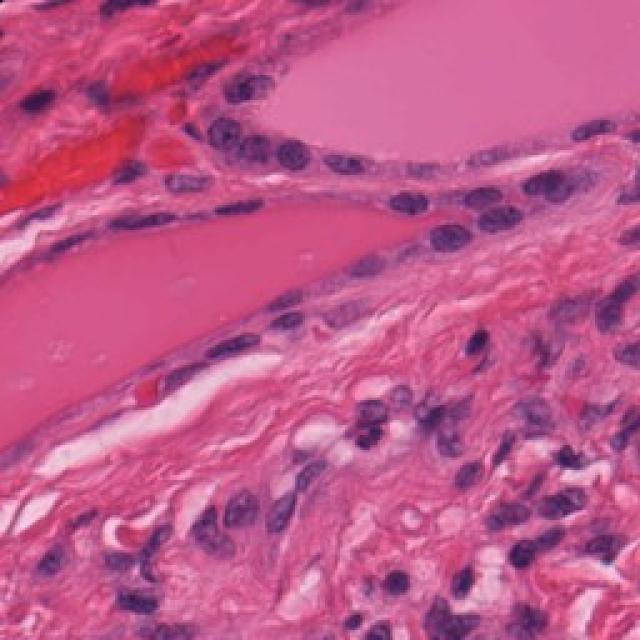normal: (311, 127, 381, 192), (560, 102, 627, 162), (100, 195, 182, 240), (200, 97, 255, 163), (510, 160, 580, 210), (272, 129, 323, 194), (214, 321, 274, 376), (424, 207, 479, 263), (378, 175, 434, 225), (100, 149, 158, 194), (479, 195, 524, 245)
